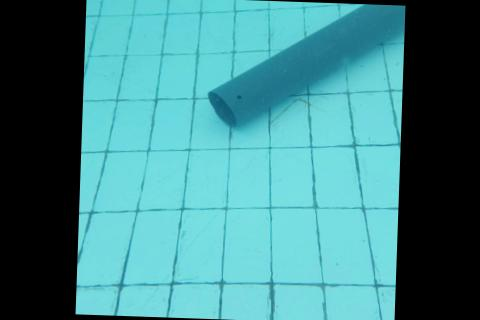kebocoran: (235, 95, 241, 99)
